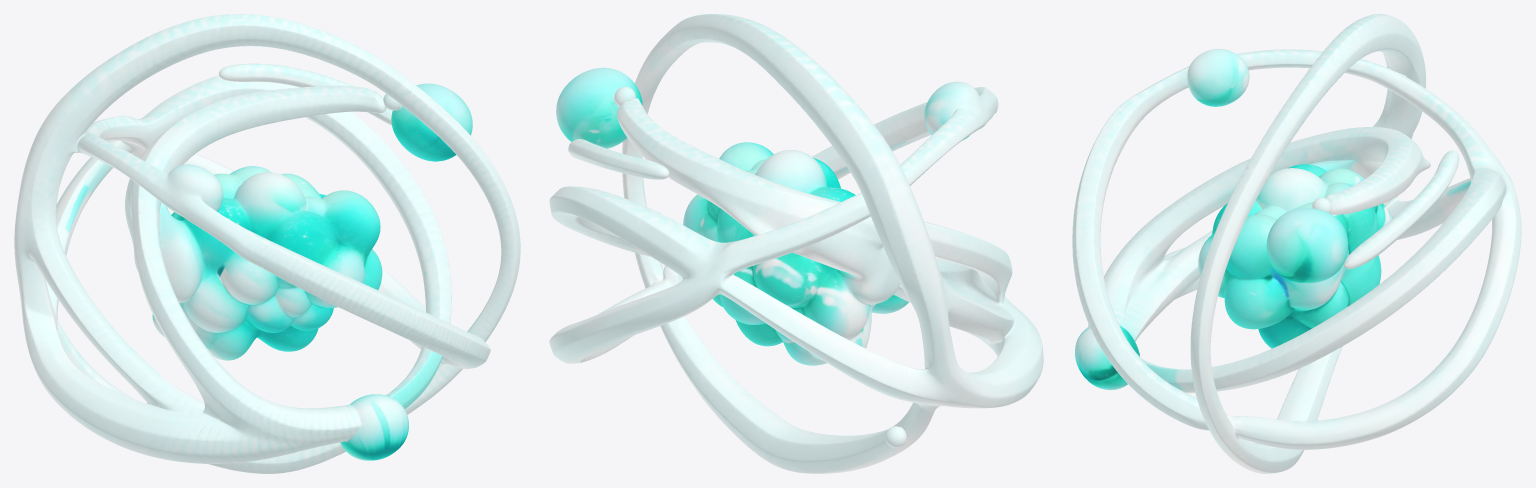
Rendered from obj3.desktop.glb.
3 renders of one model, left to right at view 1: azimuth 30°, elevation 25°; view 2: azimuth 150°, elevation 25°; view 3: azimuth 270°, elevation 25°, orthographic. The views are drawn at different scales.
Size of the model in its own units: 1.9 by 1.89 by 1.81.
1 material, 1 textured.
